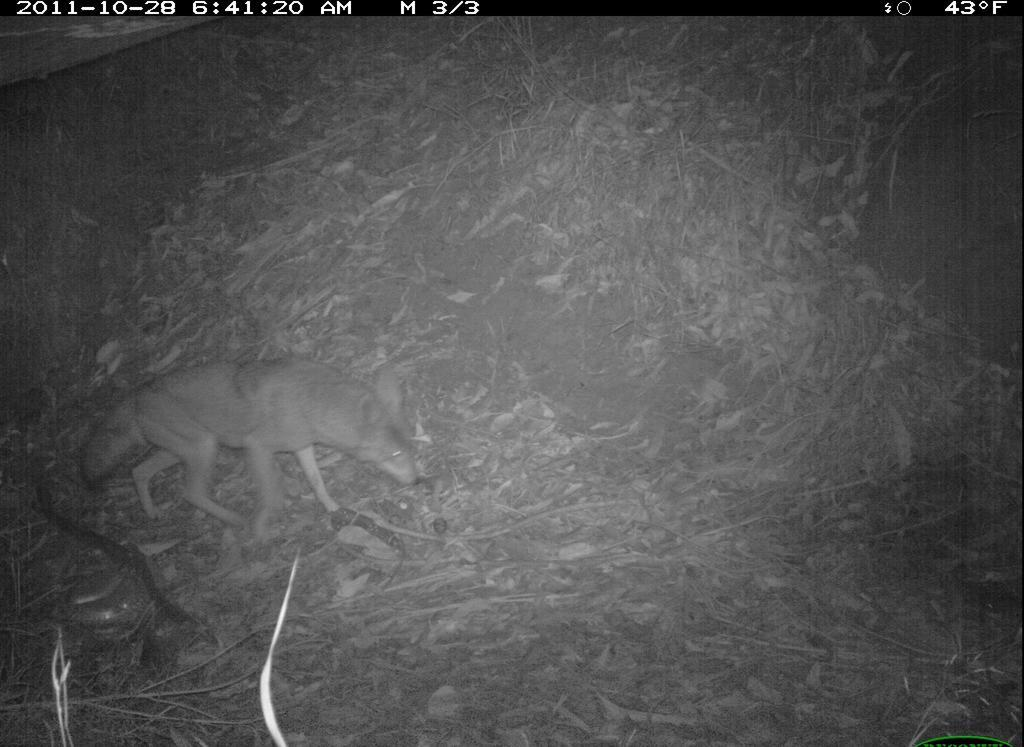coyote: (76, 350, 428, 550)
